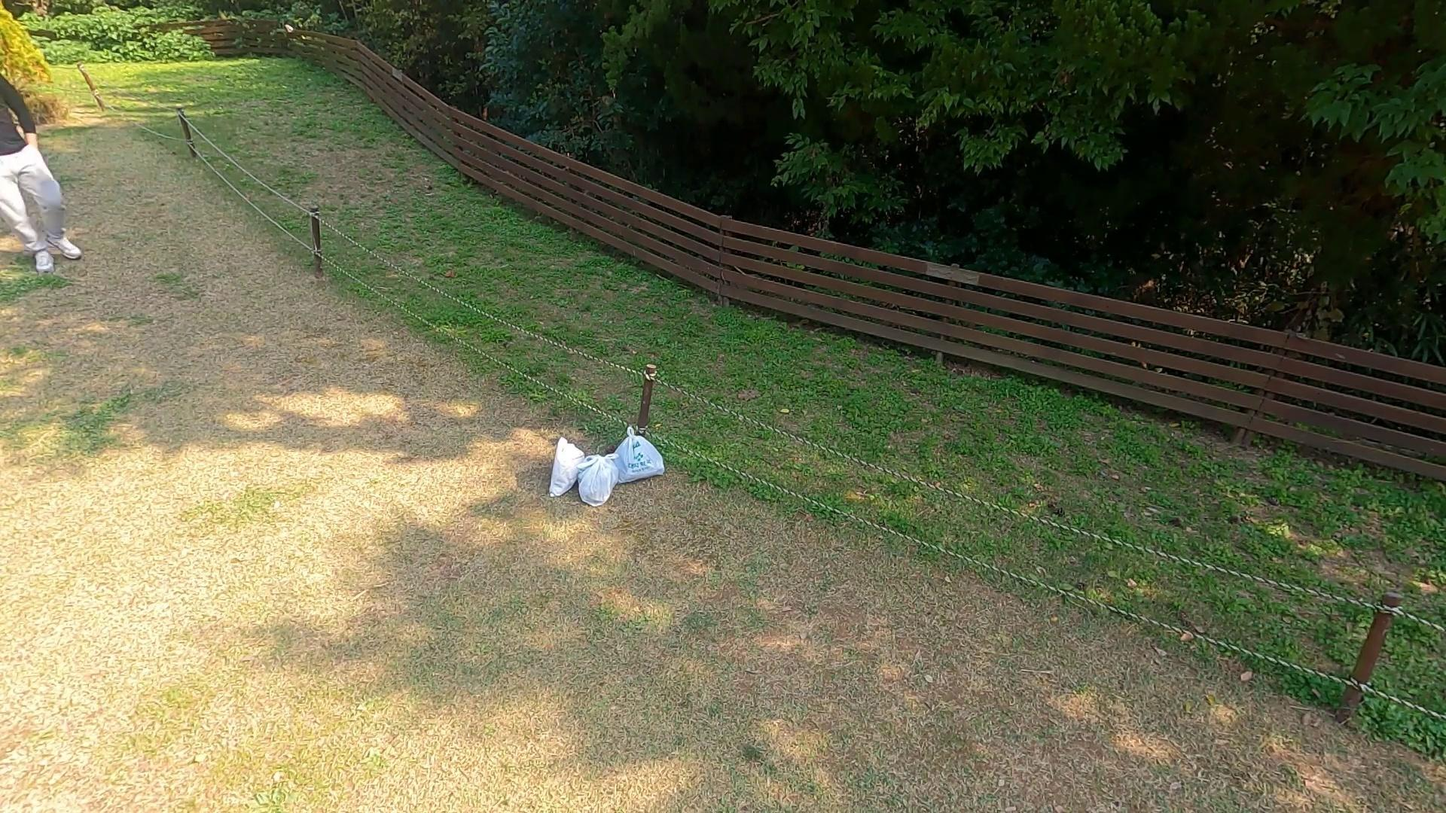trash: (601, 428, 678, 490), (542, 440, 592, 494), (573, 452, 623, 505)
